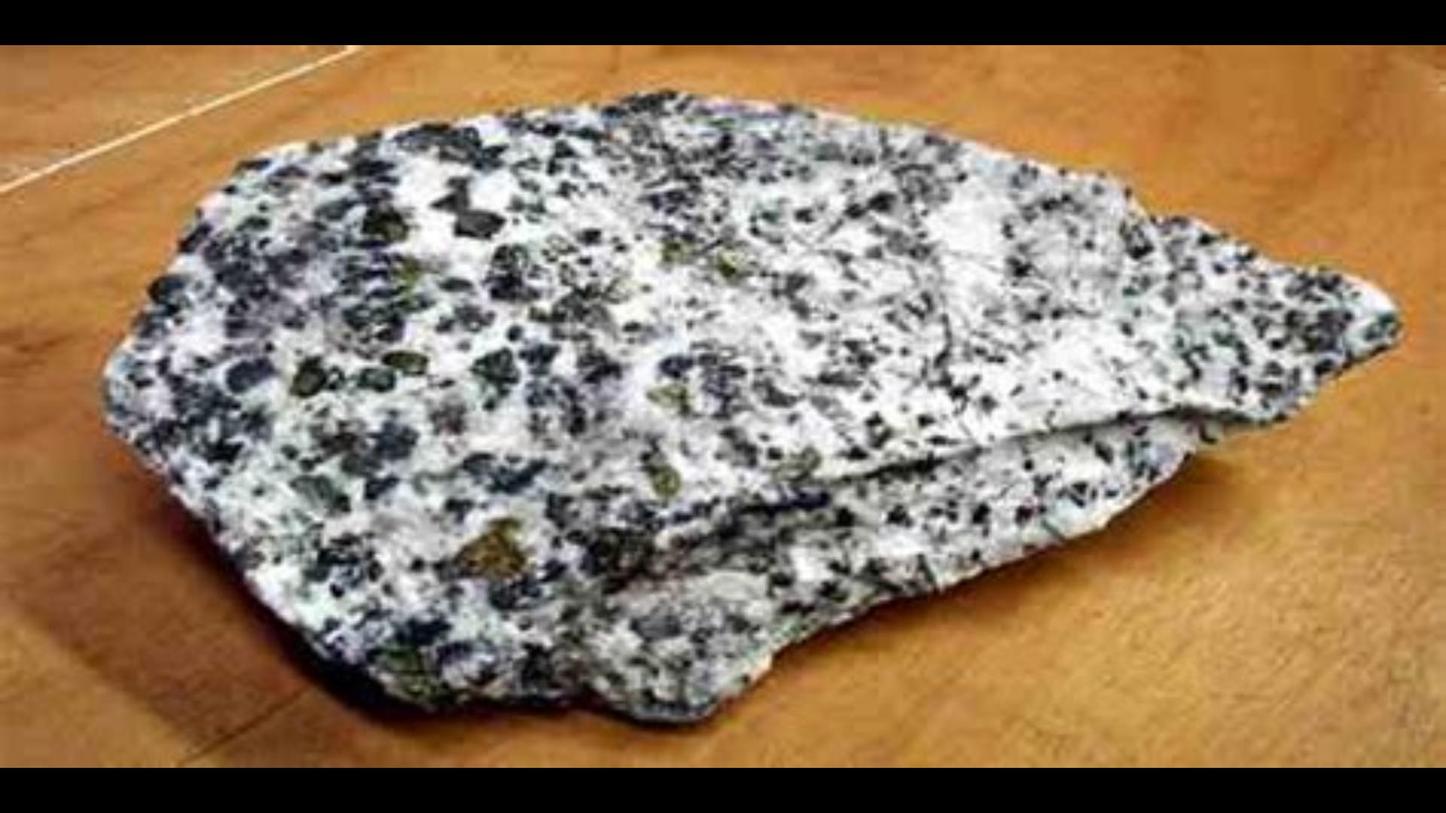rock: (131, 103, 1257, 713)
